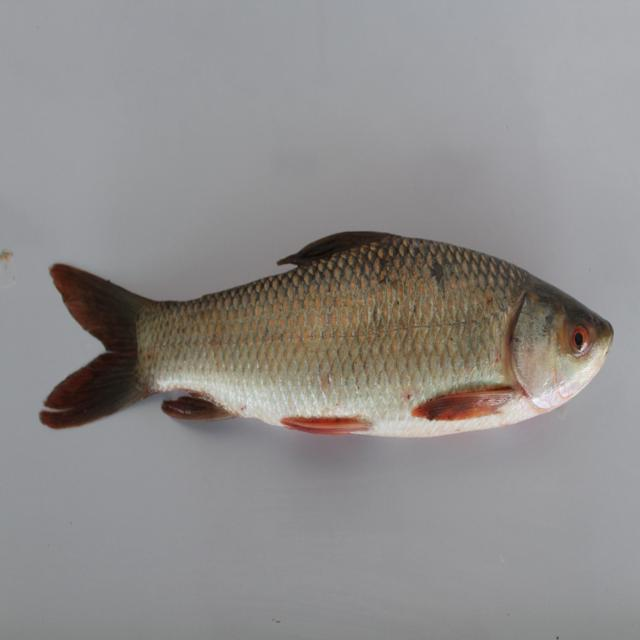Rohu: (35, 209, 618, 450)
